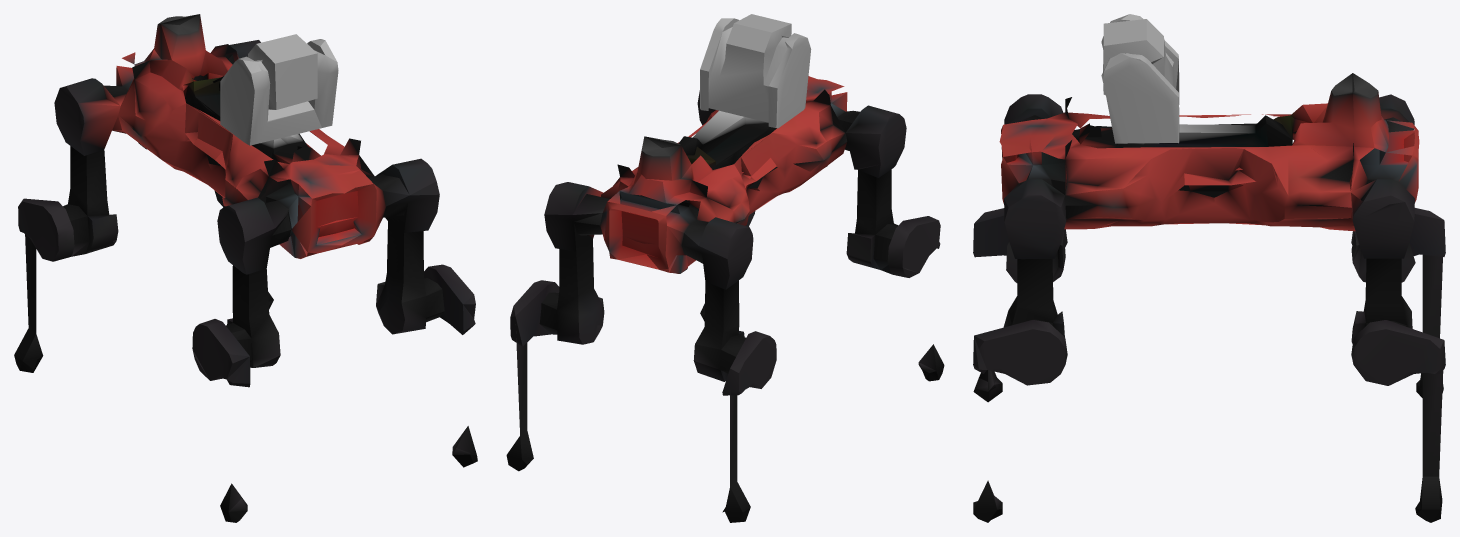
File: anymal-d.l2.glb
3 renders of one model, left to right at view 1: azimuth 30°, elevation 25°; view 2: azimuth 150°, elevation 25°; view 3: azimuth 270°, elevation 25°, orthographic. The views are drawn at different scales.
Parts seen in each view (by area): view 1: anymal-d__l2; view 2: anymal-d__l2; view 3: anymal-d__l2.
Boxes of the visible parts, left/top/right/bottom form: anymal-d__l2: left=14, top=14, right=477, bottom=522; anymal-d__l2: left=506, top=14, right=944, bottom=522; anymal-d__l2: left=973, top=14, right=1445, bottom=522.
Bounding box in the file's own units: 0.667 × 1.02 × 1.01.
